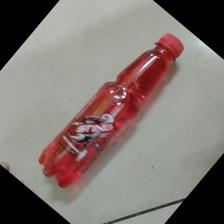Sting: (39, 32, 184, 191)
